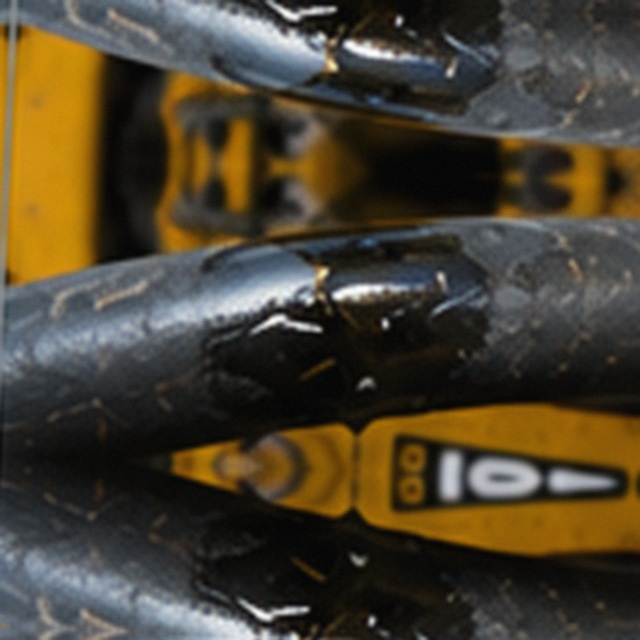hydraulic_oil_leak: (180, 219, 415, 442)
